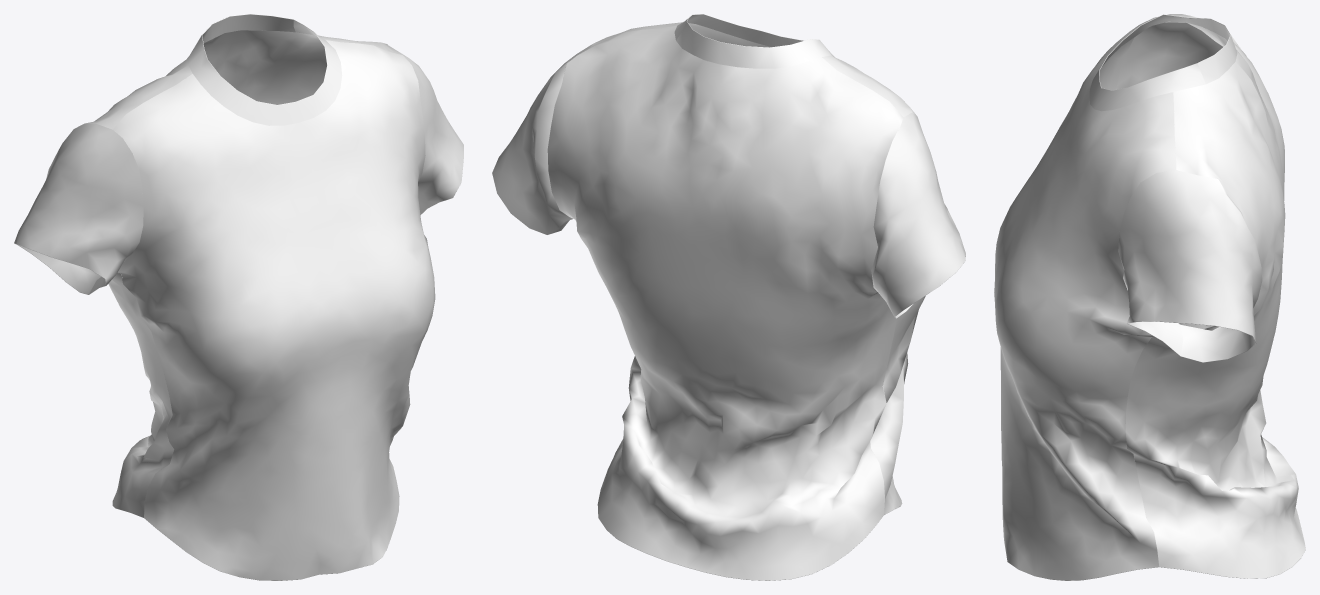
File: tshirtFemale.glb
3 renders of one model, left to right at view 1: azimuth 30°, elevation 25°; view 2: azimuth 150°, elevation 25°; view 3: azimuth 270°, elevation 25°, orthographic. The views are drawn at different scales.
Parts seen in each view (by area): view 1: tshirt; view 2: tshirt; view 3: tshirt.
Part boxes in pixels (x1,y1,x2,y2): tshirt: (14, 14, 463, 580); tshirt: (492, 14, 965, 580); tshirt: (994, 14, 1305, 580).
Size of the model in its own units: 4.86 by 5.11 by 2.83.
Materials: 1 (1 with a texture image).
